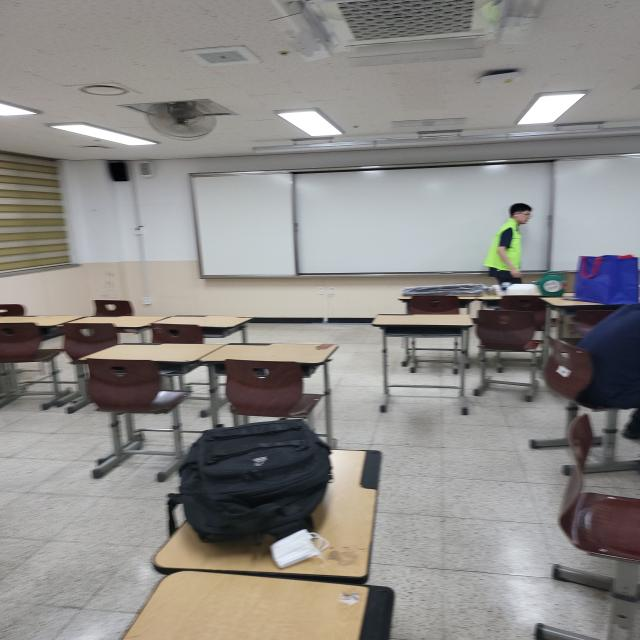weston_spy: (483, 216, 531, 277)
